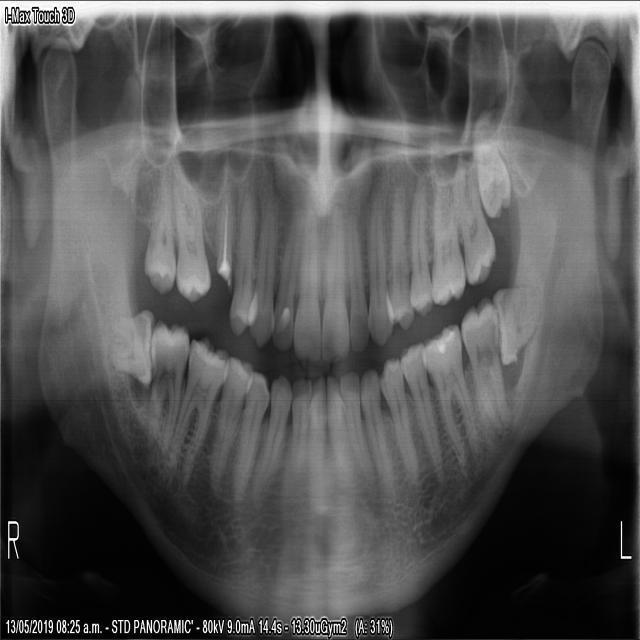LCD: (358, 364, 393, 489)
LCU: (365, 192, 393, 347)
LIU: (338, 368, 378, 506), (320, 222, 349, 367), (344, 219, 369, 356), (324, 377, 356, 484)
LMD: (420, 321, 485, 469), (457, 296, 509, 432), (492, 272, 538, 369)
LMU: (454, 160, 498, 285), (430, 182, 466, 306), (470, 121, 512, 223)
LPMD: (377, 349, 421, 487), (399, 337, 442, 476)
LPMU: (383, 183, 413, 330), (405, 182, 433, 316)
RCD: (252, 369, 294, 498)
RCU: (243, 192, 277, 347)
RID: (284, 369, 311, 477), (306, 375, 328, 480)
RIU: (270, 203, 302, 352), (291, 221, 320, 361)
RMD: (167, 327, 229, 469), (140, 312, 190, 456), (110, 306, 153, 386)
RMU: (171, 194, 211, 304), (138, 180, 174, 297)
RPMD: (206, 351, 253, 479), (227, 365, 268, 502)
RPMU: (226, 198, 258, 339), (214, 194, 234, 295)
